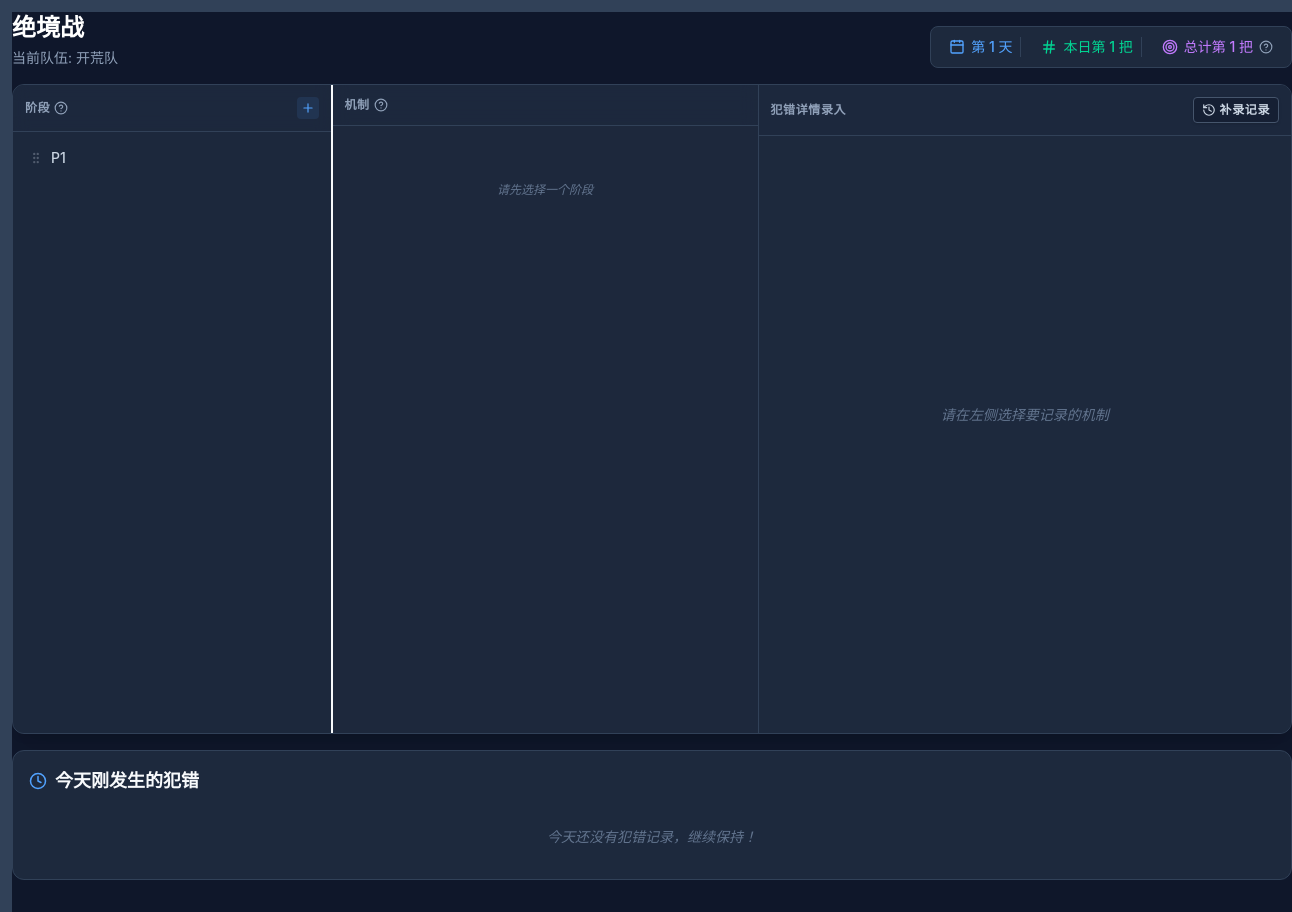
it: Tracker Component › renders parts and mechanics correctly
// Simulate clicking on the part to display its mechanics
Click the button "P1" at (159, 158), box left=51, top=140, right=266, bottom=176
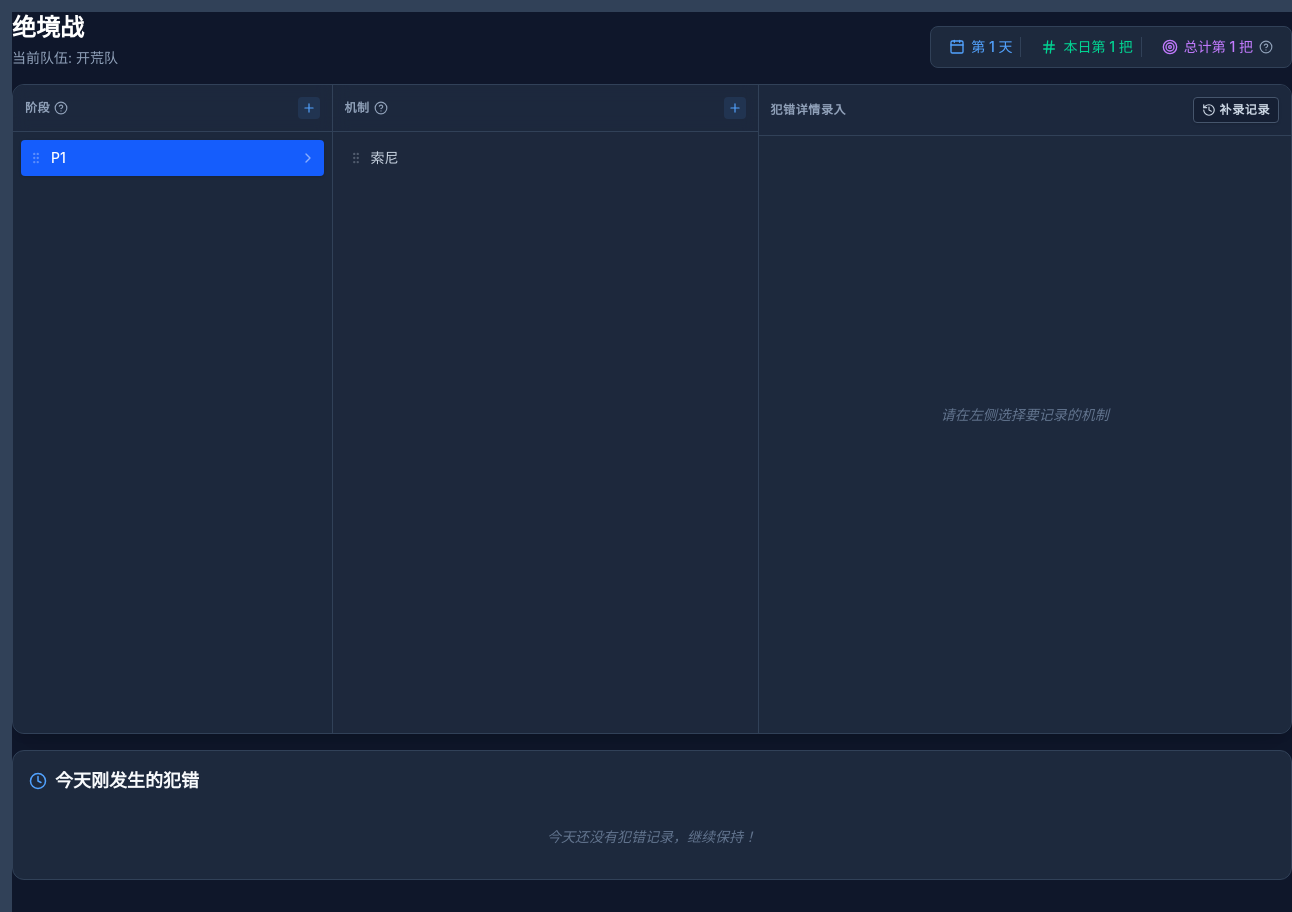
Check: the button "索尼" is shown, box left=370, top=140, right=694, bottom=176
